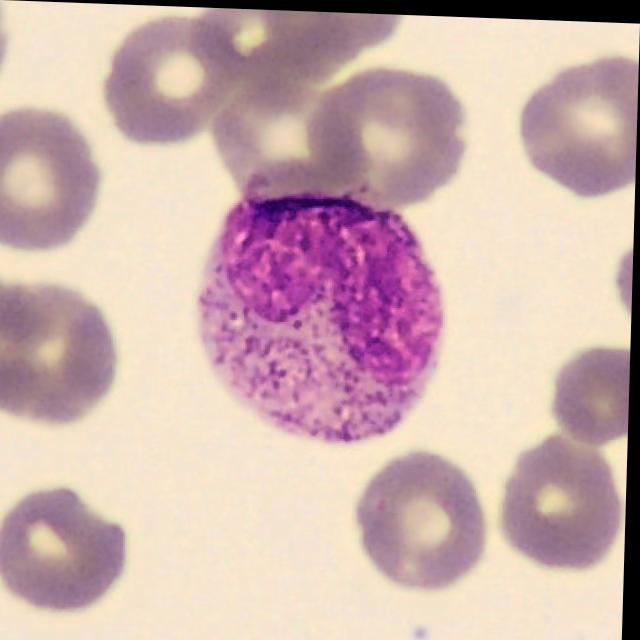Metamielocito: (200, 175, 449, 441)
